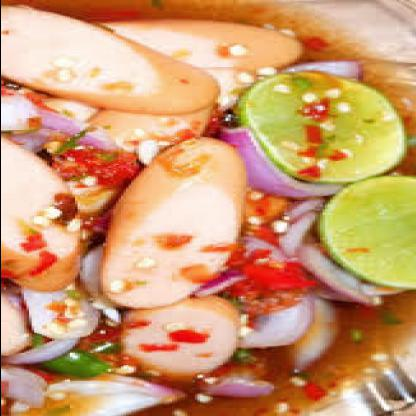Yum: (2, 0, 416, 415)
